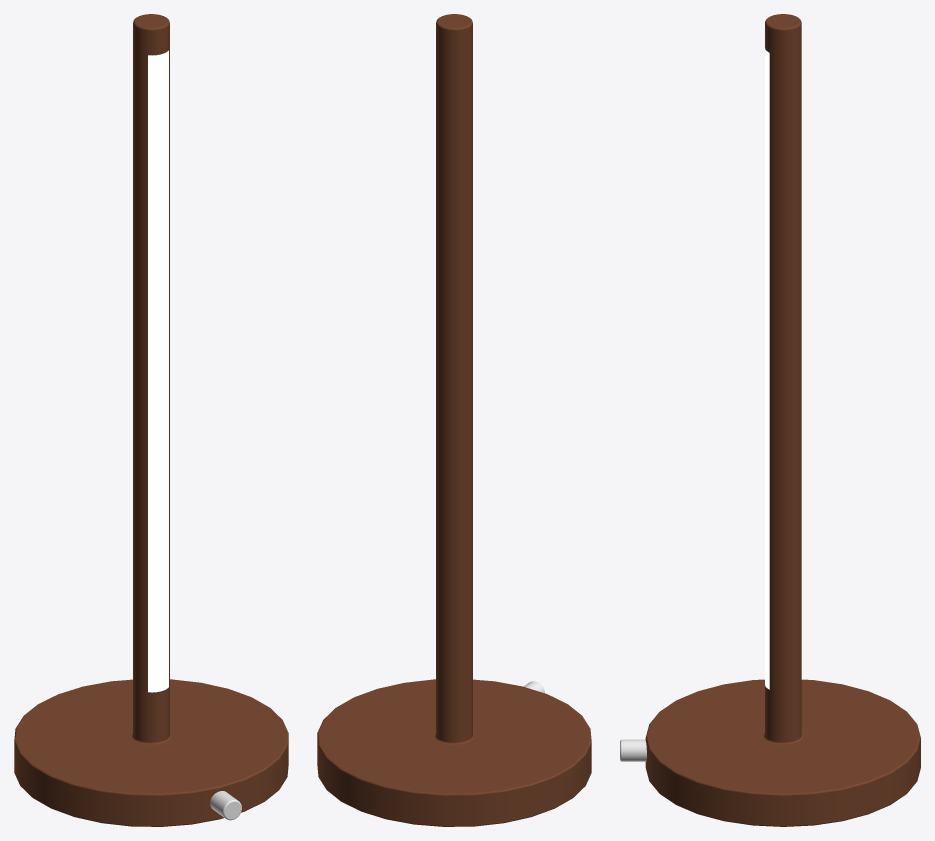
3 renders of one model, left to right at view 1: azimuth 30°, elevation 25°; view 2: azimuth 150°, elevation 25°; view 3: azimuth 270°, elevation 25°, orthographic.
Parts seen in each view (by area): view 1: Body1, Body2, Body5; view 2: Body1; view 3: Body1, Body2, Body5.
Part boxes in pixels (x1,y1,x2,y2): Body1: (14, 14, 288, 826); Body2: (148, 50, 168, 692); Body5: (210, 791, 241, 820); Body1: (317, 14, 591, 826); Body1: (645, 14, 920, 826); Body2: (765, 48, 769, 689); Body5: (620, 739, 646, 761).
Bounding box in the file's own units: 0.15 × 0.45 × 0.164.
